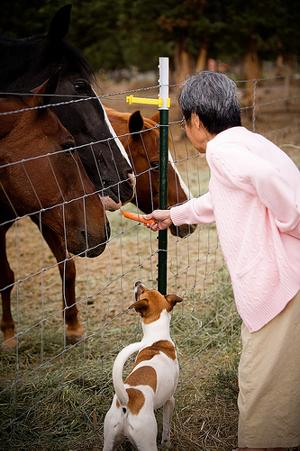person: (145, 67, 300, 450)
